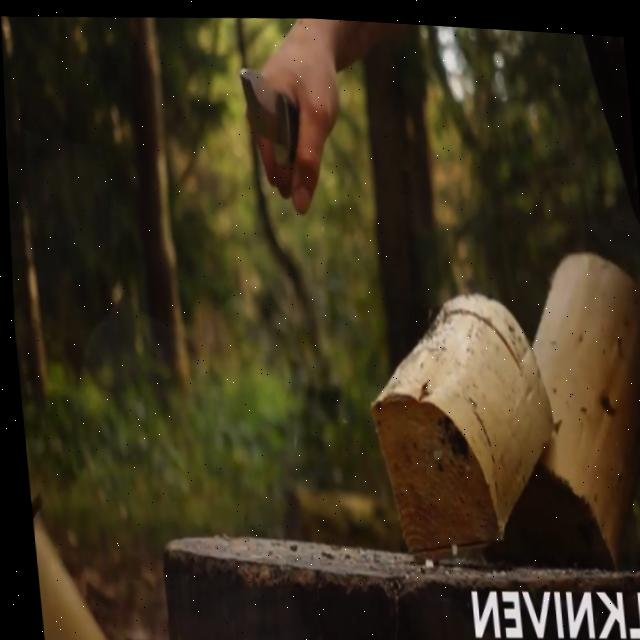knife: (239, 61, 303, 162)
